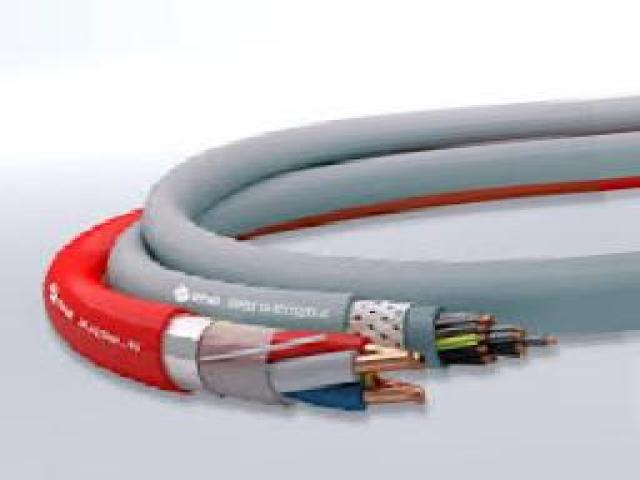wire: (40, 79, 638, 412)
